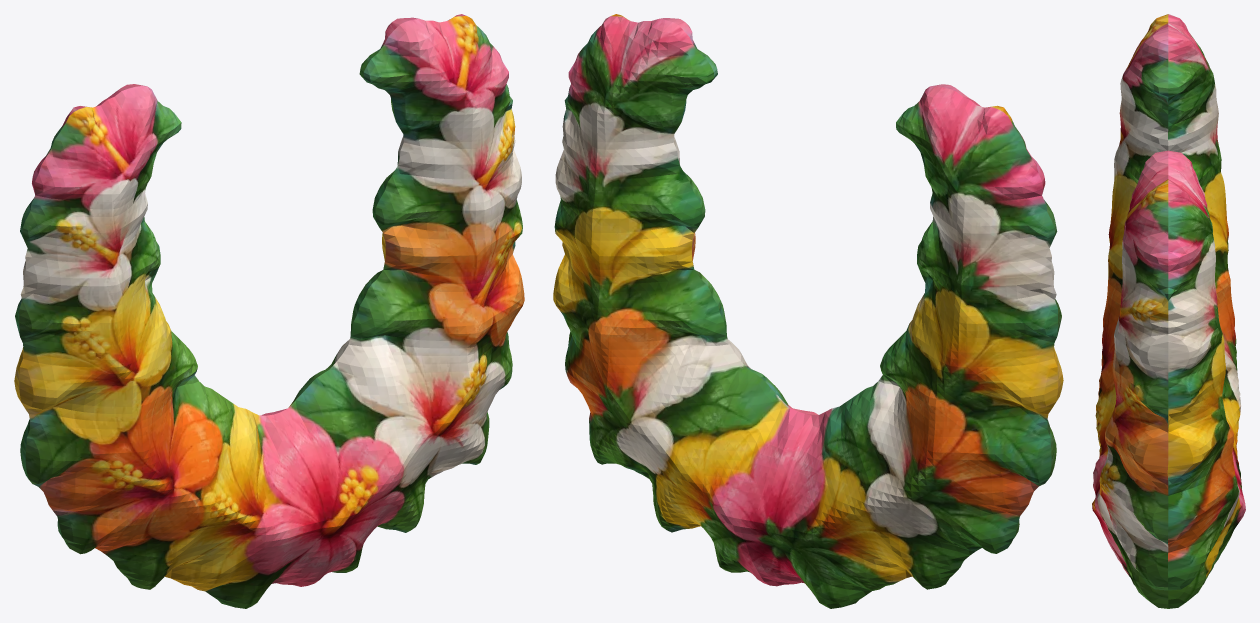
The model's file is flower_lei.glb.
3 renders of one model, left to right at view 1: azimuth 30°, elevation 25°; view 2: azimuth 150°, elevation 25°; view 3: azimuth 270°, elevation 25°, orthographic. The views are drawn at different scales.
Visible parts, largest first — view 1: geometry_0; view 2: geometry_0; view 3: geometry_0.
Part boxes in pixels (x1=…): geometry_0: x1=14, y1=14, x2=524, y2=608; geometry_0: x1=553, y1=14, x2=1063, y2=608; geometry_0: x1=1092, y1=14, x2=1245, y2=608.
Bounding box in the file's own units: 0.9413 × 0.9782 × 0.2796.
Materials: 1 (1 with a texture image).
